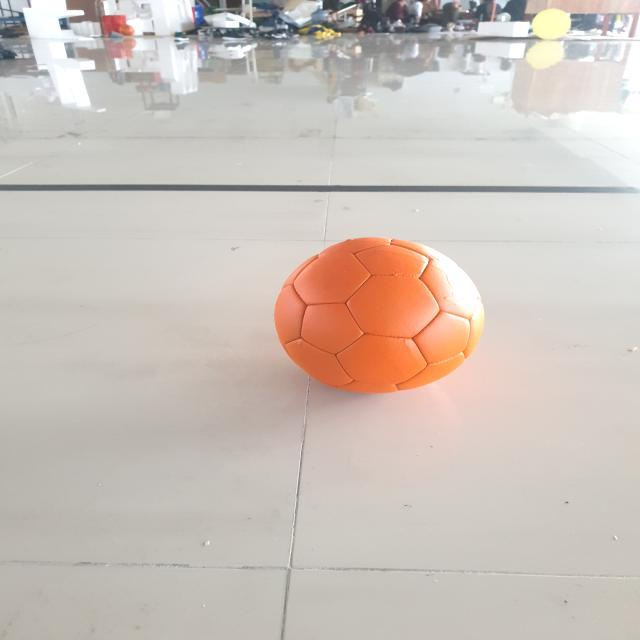bola: (268, 231, 490, 407)
